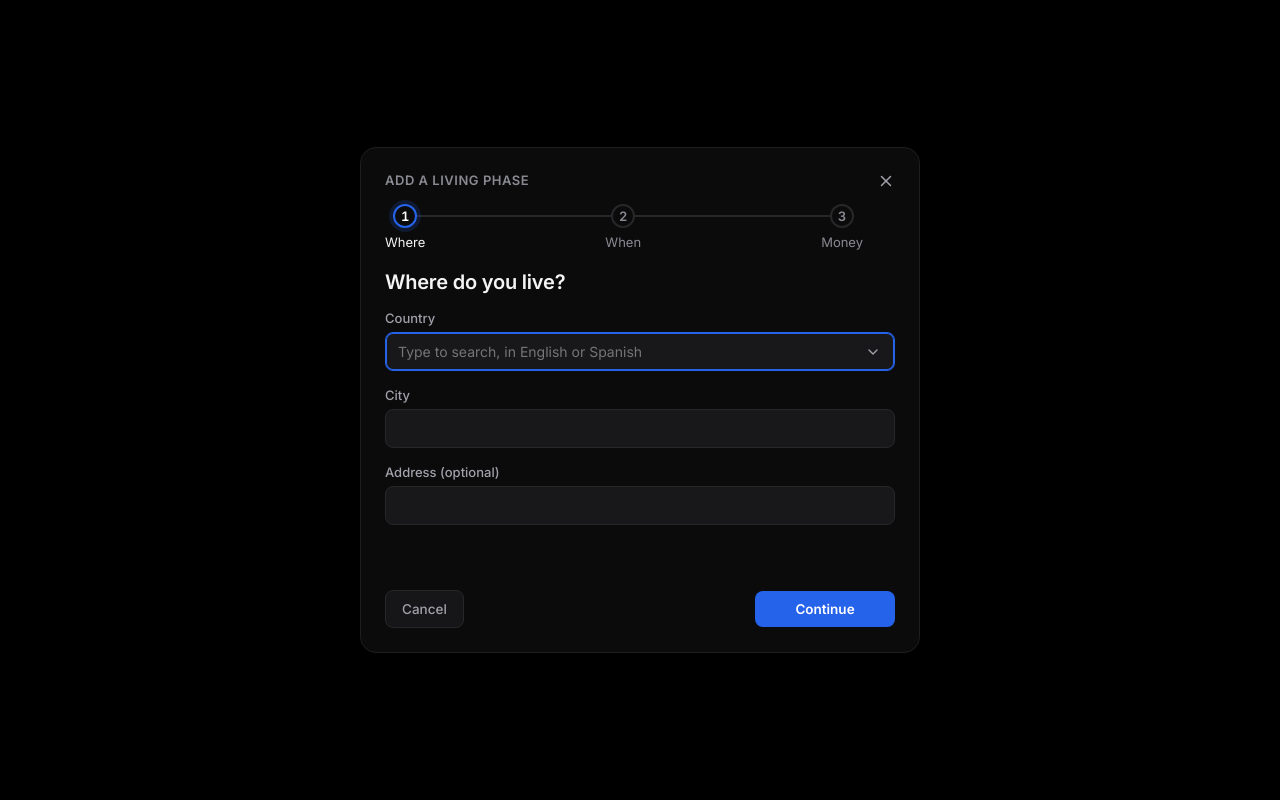
it: PhaseWizard › goes back without losing answers
The width and height of the screenshot is (1280, 800).
Type "port" into the dropdown labelled "Country".
click(640, 352); type("port")  # box x1=385 y1=332 x2=895 y2=371
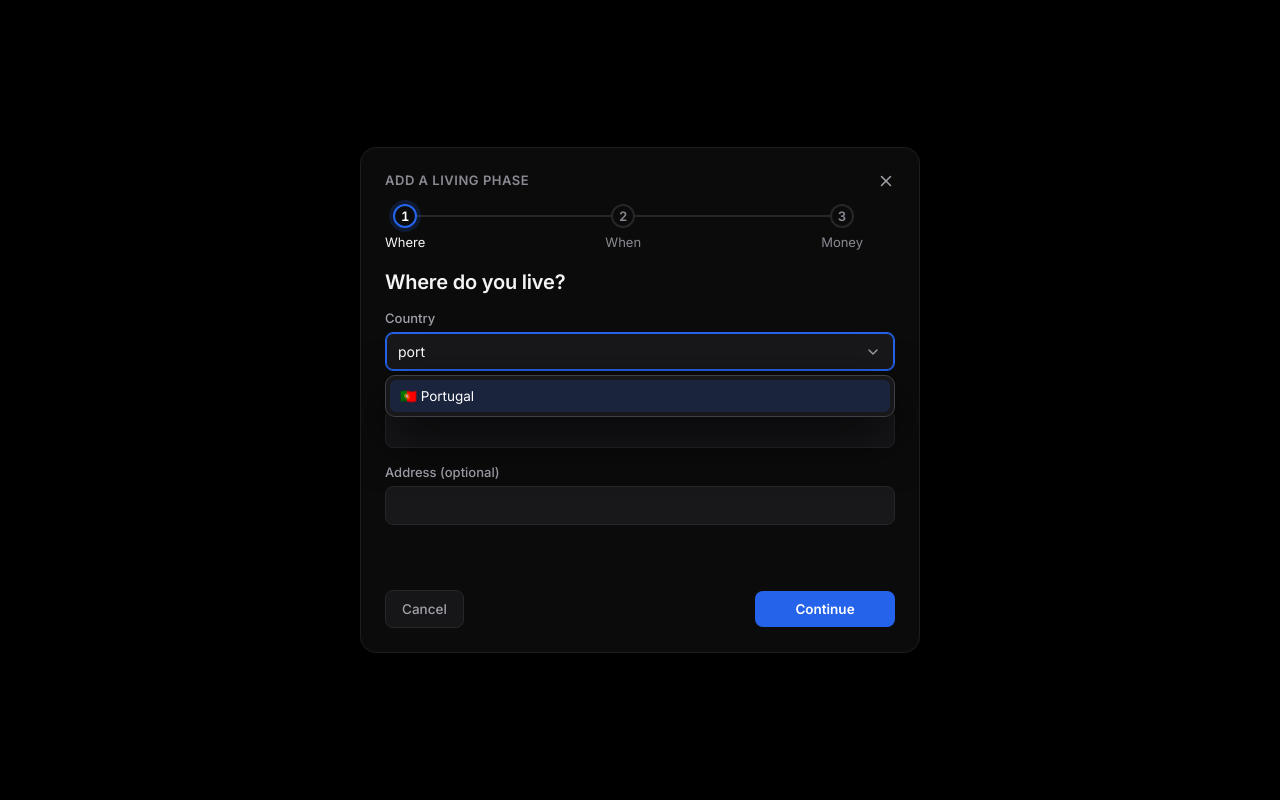
Click the option "🇵🇹 Portugal".
click(447, 396)  # box x1=390 y1=380 x2=890 y2=412
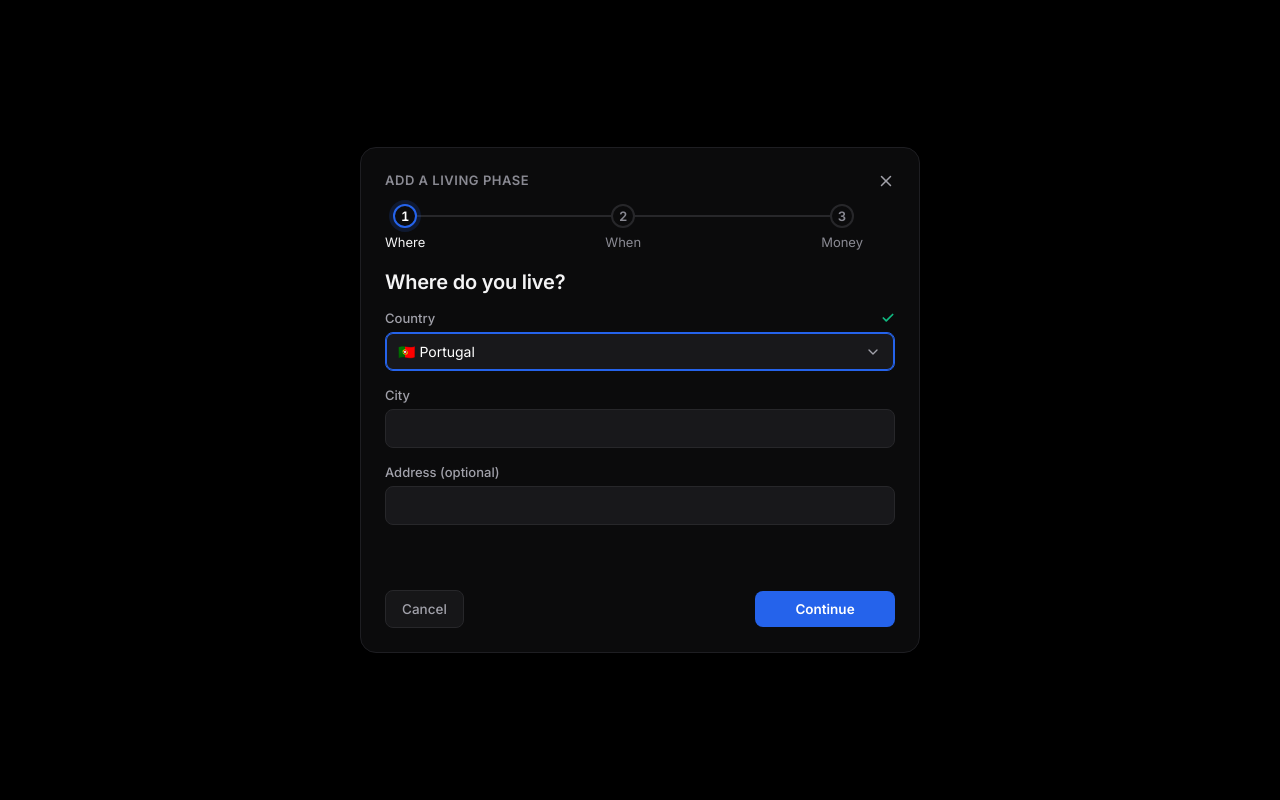
Type "Lisbon" into the field labelled "City".
click(640, 428); type("Lisbon")  # box x1=385 y1=409 x2=895 y2=448
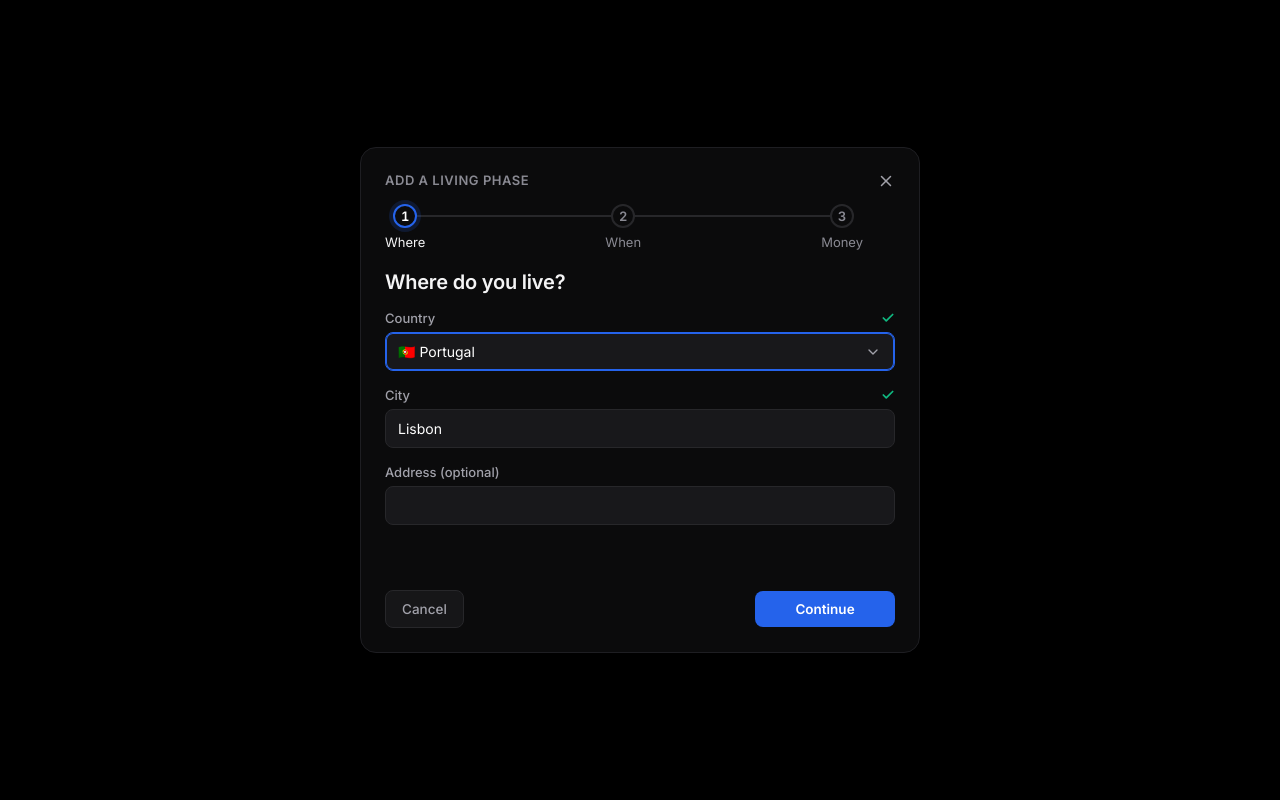
Click the button "Continue".
click(825, 609)  # box x1=755 y1=591 x2=895 y2=627
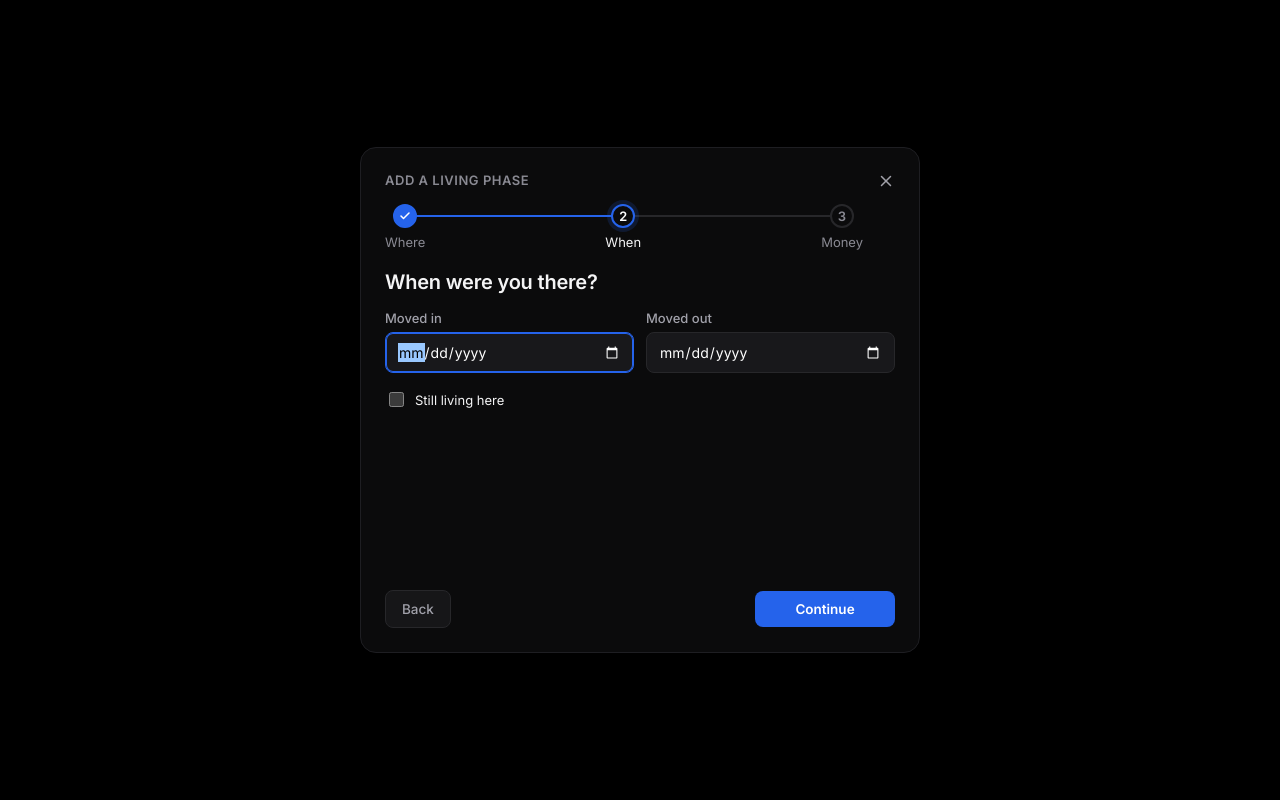
Click the button "Back".
click(418, 609)  # box x1=385 y1=590 x2=451 y2=628
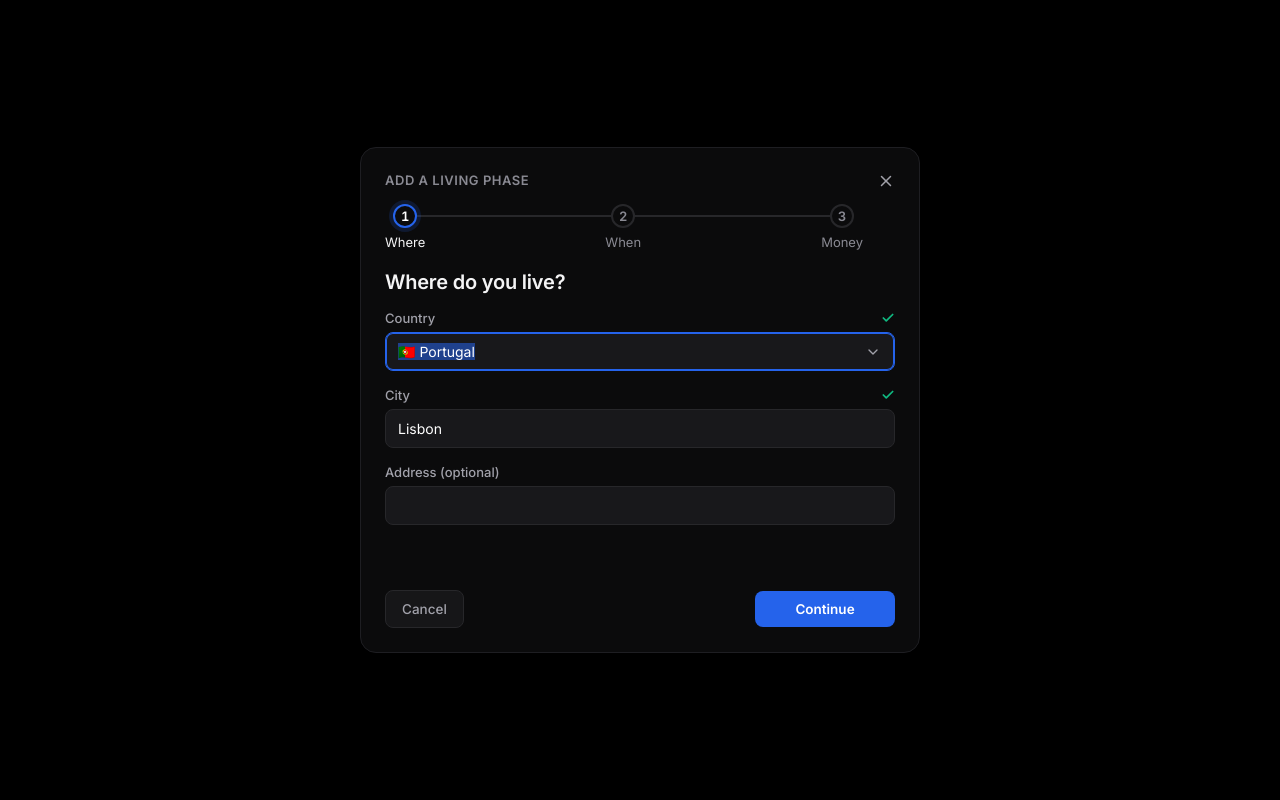
Now the field labelled "City" holds "Lisbon", box x1=385 y1=409 x2=895 y2=448
